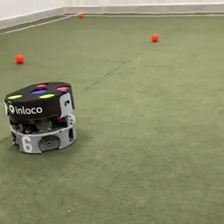ball: (14, 54, 24, 65), (151, 32, 159, 42), (77, 11, 84, 18)
robot: (3, 79, 78, 155)
